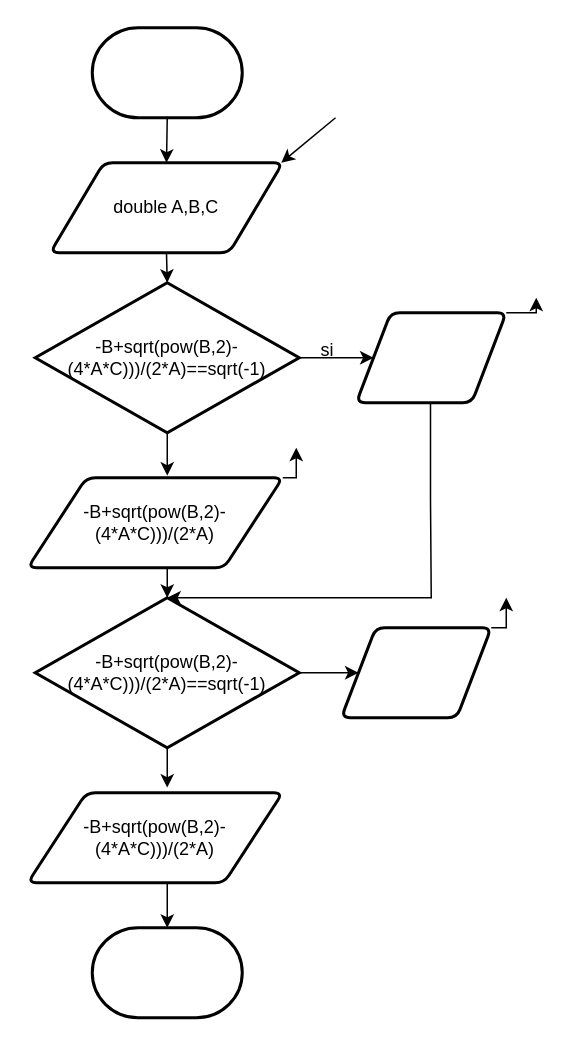
Image size: 575x1044. Some labels were removed from this diagram. The shapes that lost their labels are listed below. From the top down, each one's centre as x and y in pixels, then its label:
At point (166, 72): "Inicio".
At point (166, 972): "Fin".
